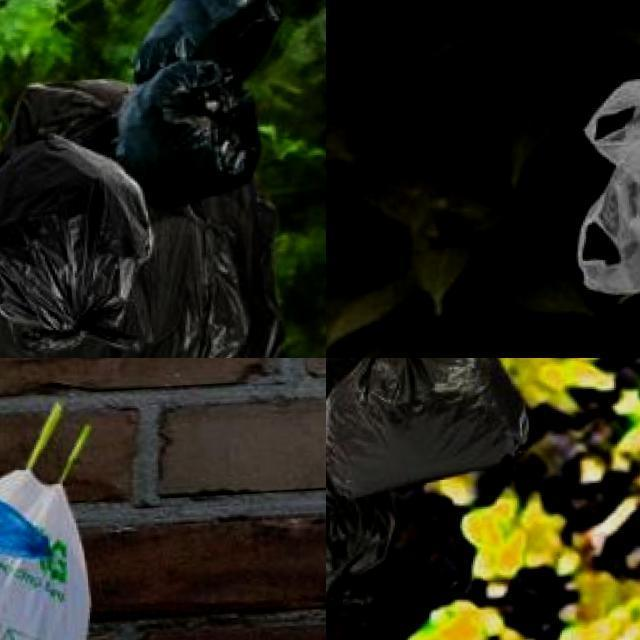waste: (0, 70, 289, 358), (0, 133, 156, 346), (326, 358, 533, 482), (326, 358, 406, 628), (116, 61, 264, 191), (133, 0, 270, 71), (596, 70, 640, 282)
